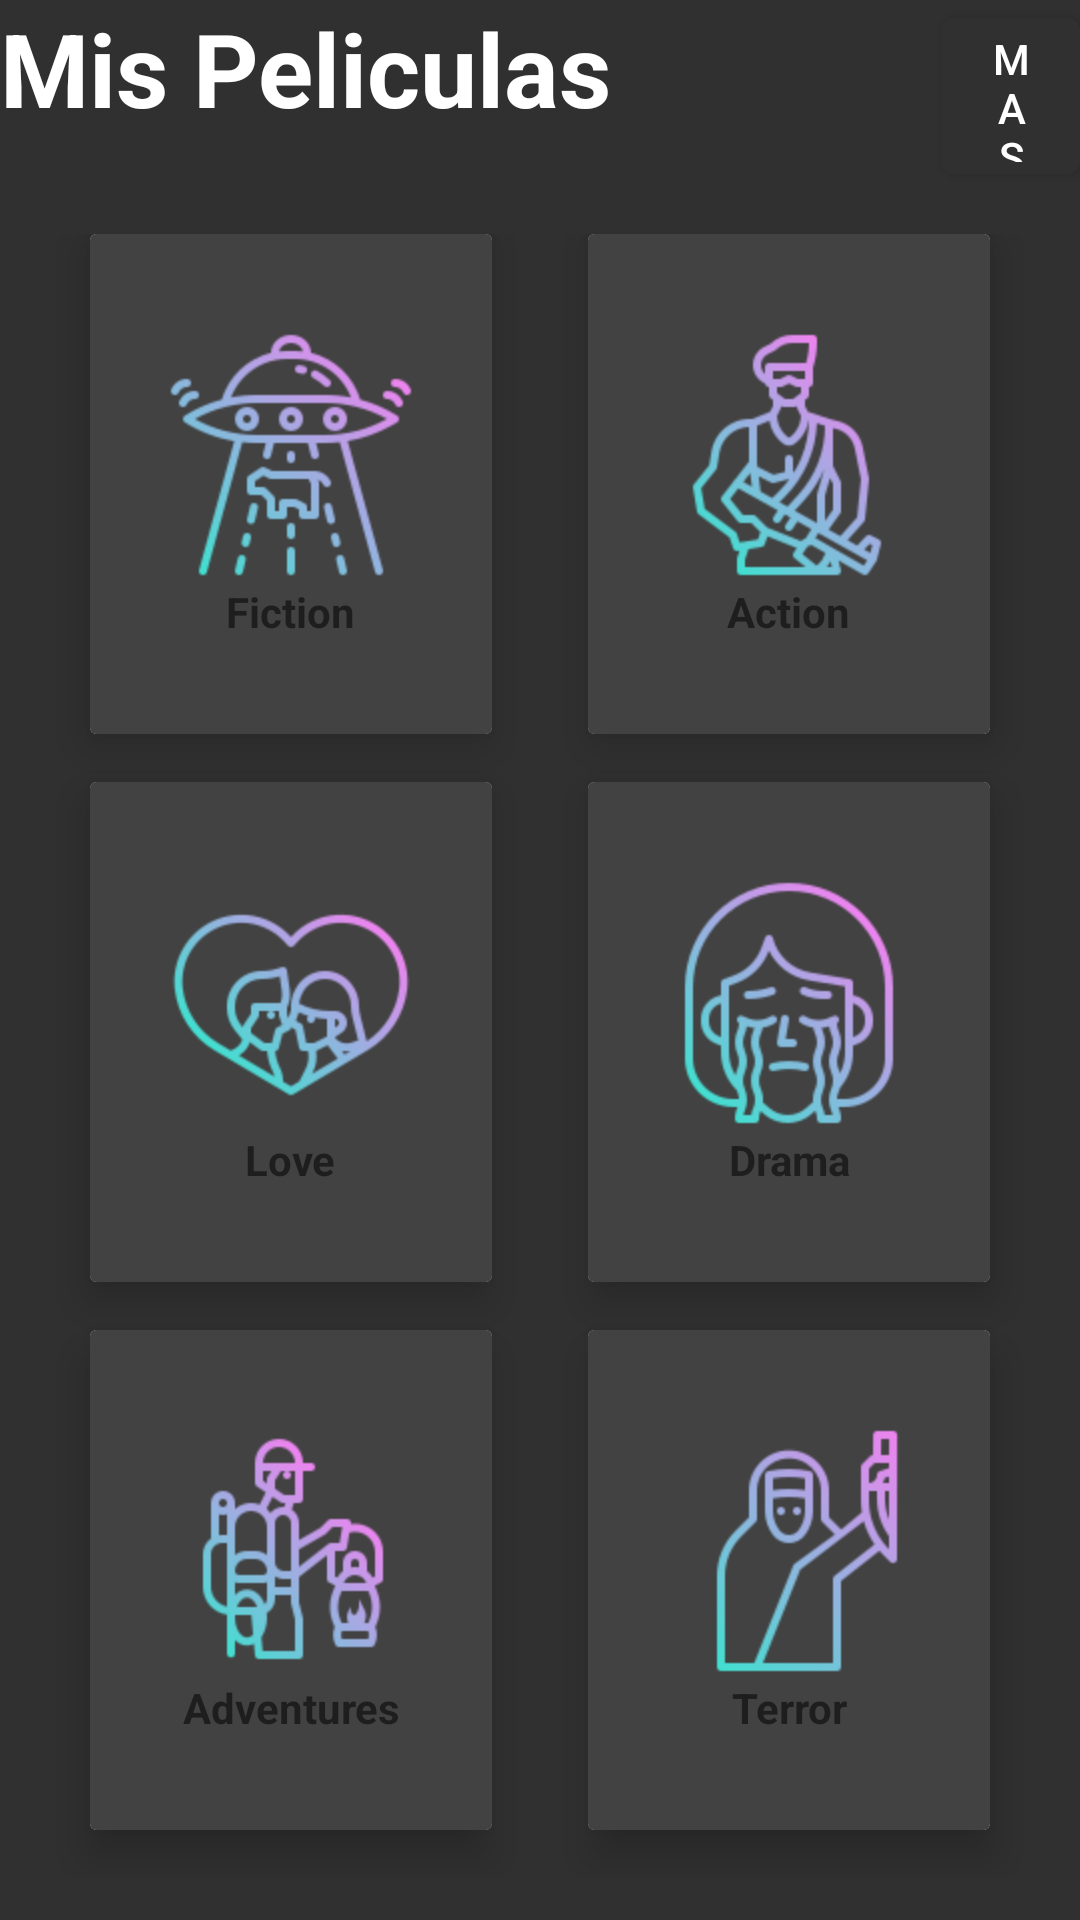

Where to tap for icons on this 1080x1920 app screen, as [x,y]:
asesinos: [807,1551]
llorar: [789,1003]
ovni: [291,455]
